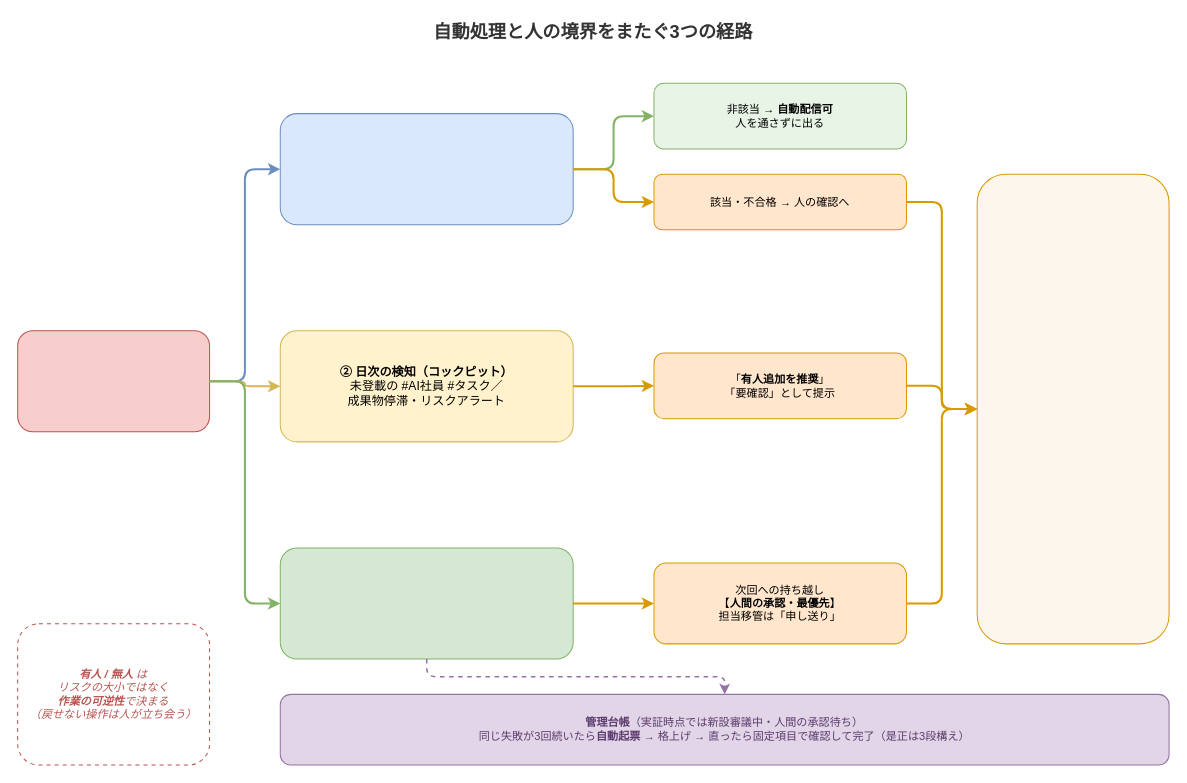
Some shapes in this 1187 by 783 pixel diagram are drawn without their labels. Each missing label, with the centre of its shape:
"AI社員の稼働 タスクを自律的に遂行" belongs at point 113,381.
"① ゲート判定（Gate） 品質ゲート／配信ゲート 成果物ごとに自動で判定" belongs at point 426,169.
"③ 週次サーベイ → AIボード決議 意思表明 → 相互検討 → 決議 判断は「承認」／「条件付き承認」" belongs at point 426,603.
"人 最終承認 立ち会い データ・権限・ ナレッジの整備" belongs at point 1072,408.
